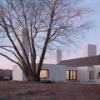chimneys: (54, 49, 61, 64)
